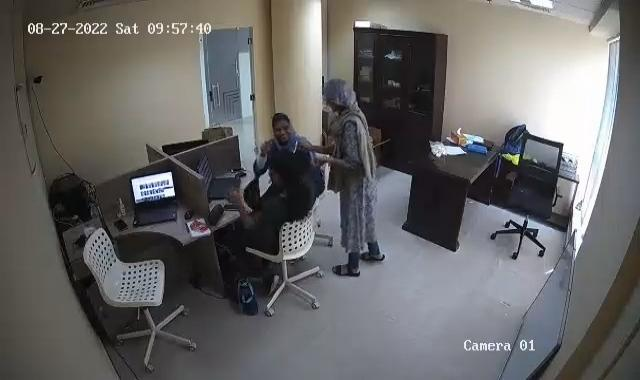hairnet: (323, 78, 358, 114)
no_hairnet: (266, 112, 300, 141), (270, 153, 299, 184)
